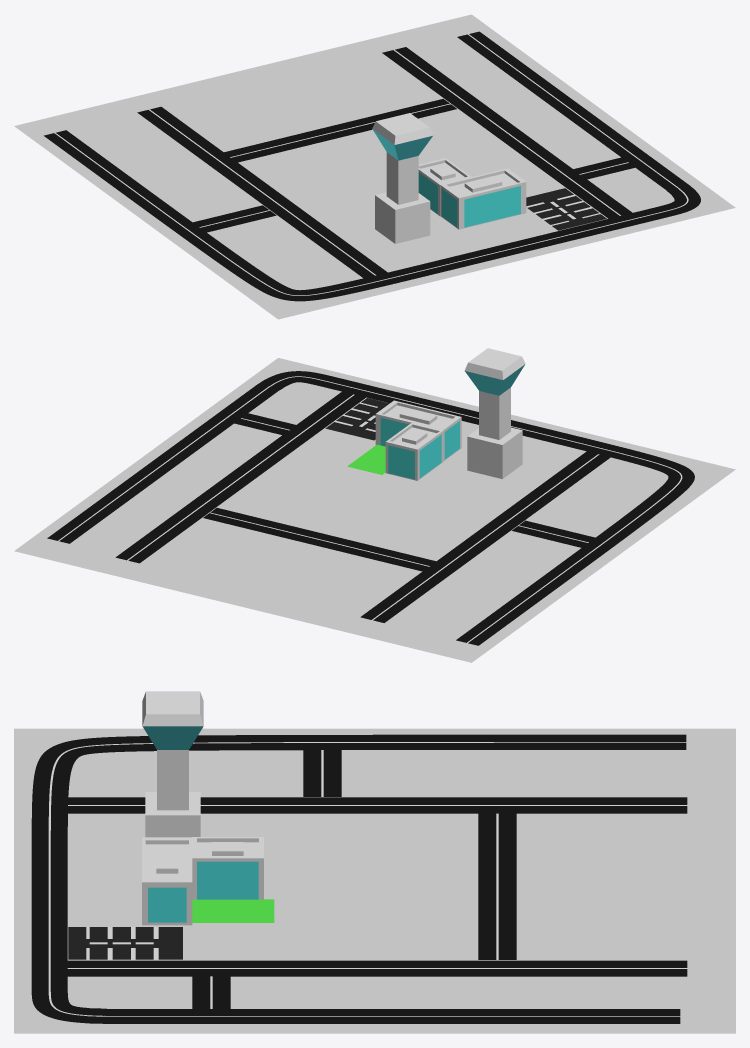
The model's file is airport.gltf.
3 renders of one model, top to bottom at view 1: azimuth 30°, elevation 25°; view 2: azimuth 150°, elevation 25°; view 3: azimuth 270°, elevation 25°, orthographic. The views are drawn at different scales.
Visible parts, largest first — view 1: Plane, Plane.003, Cube.003, Plane.004, Plane.001_Plane.005, Plane.002, Cube.001, Plane.005_Plane.006, Plane.009_Plane.010, Cube.002, Plane.006_Plane.007, Plane.007_Plane.008; view 2: Plane, Plane.003, Cube.003, Plane.004, Plane.001_Plane.005, Plane.002, Plane.005_Plane.006, Cube.002, Cube.001, Plane.009_Plane.010, Plane.006_Plane.007, Plane.008_Plane.009 (+1 smaller); view 3: Plane, Plane.003, Plane.004, Plane.001_Plane.005, Plane.002, Cube.003, Plane.005_Plane.006, Cube.002, Cube.001, Plane.009_Plane.010, Plane.008_Plane.009, Plane.006_Plane.007 (+1 smaller).
Boxes of the visible parts, x1,y1,x2,y2 form: Plane: (14,14,735,319); Plane.003: (44,130,700,301); Cube.003: (372,113,433,243); Plane.004: (382,47,632,218); Plane.001_Plane.005: (137,106,387,278); Plane.002: (457,31,689,191); Cube.001: (440,168,526,229); Plane.005_Plane.006: (223,98,456,162); Plane.009_Plane.010: (526,188,606,230); Cube.002: (418,158,471,216); Plane.006_Plane.007: (193,205,276,232); Plane.007_Plane.008: (573,157,634,179); Plane: (14,358,735,662); Plane.003: (258,371,694,645); Cube.003: (464,348,525,478); Plane.004: (115,391,365,563); Plane.001_Plane.005: (360,451,610,622); Plane.002: (47,384,280,543); Plane.005_Plane.006: (203,508,435,571); Cube.002: (385,422,443,480); Cube.001: (375,400,461,460); Plane.009_Plane.010: (325,398,389,440); Plane.006_Plane.007: (512,520,594,547); Plane.008_Plane.009: (347,444,385,474); Plane: (14,728,735,1033); Plane.003: (31,734,686,1023); Plane.004: (67,960,687,976); Plane.001_Plane.005: (67,797,687,813); Plane.002: (102,1009,680,1023); Cube.003: (142,691,203,837); Plane.005_Plane.006: (478,813,516,959); Cube.002: (192,837,263,899); Cube.001: (142,837,192,925); Plane.009_Plane.010: (68,927,182,959); Plane.008_Plane.009: (192,899,274,922); Plane.006_Plane.007: (303,750,341,796).
Size of the model in its own units: 100 by 23.1 by 100.
